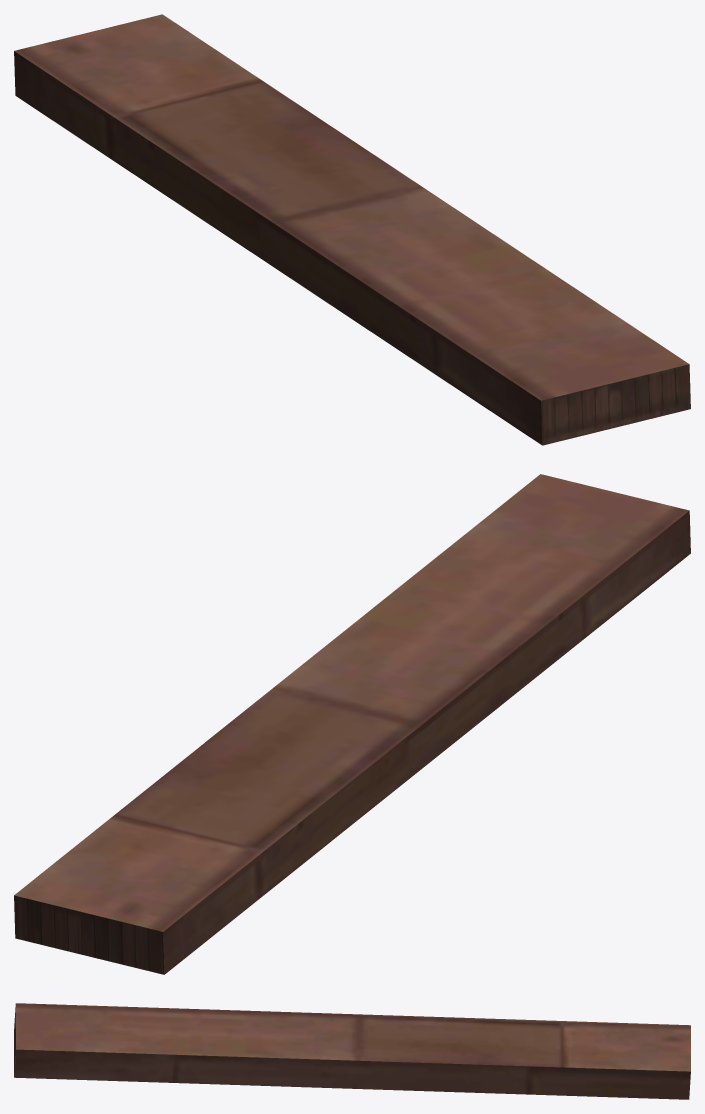
The model's file is woodBlock2 (39).fbx.
3 views of the same model, one above another, from view 1: azimuth 30°, elevation 25°; view 2: azimuth 150°, elevation 25°; view 3: azimuth 270°, elevation 25° (orthographic). The views are drawn at different scales.
Parts seen in each view (by area): view 1: woodBlock2 (39); view 2: woodBlock2 (39); view 3: woodBlock2 (39).
Boxes of the visible parts, left/top/right/bottom form: woodBlock2 (39): left=14, top=14, right=690, bottom=445; woodBlock2 (39): left=14, top=474, right=690, bottom=974; woodBlock2 (39): left=14, top=1003, right=690, bottom=1099.
Size of the model in its own units: 7.6 by 3.83 by 46.38.
